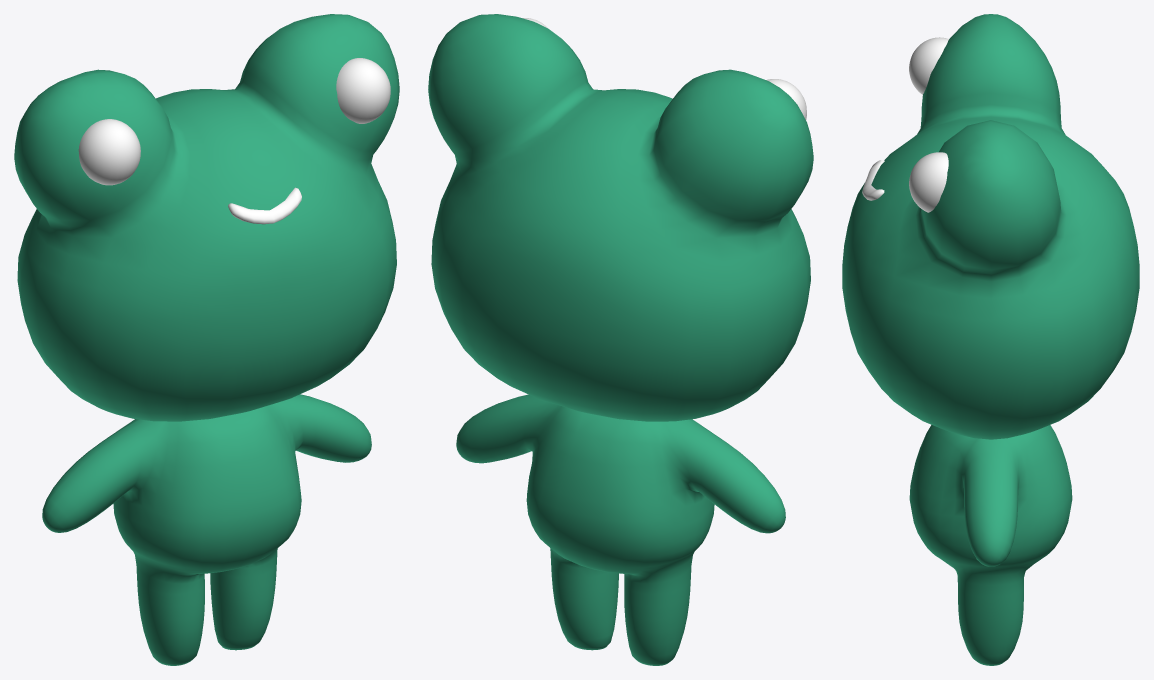
Rendered from ranarancia.glb.
3 views of the same model, side by side, from view 1: azimuth 30°, elevation 25°; view 2: azimuth 150°, elevation 25°; view 3: azimuth 270°, elevation 25° (orthographic). The views are drawn at different scales.
Parts seen in each view (by area): view 1: 1. Rana: UV sphere y cilindro; view 2: 1. Rana: UV sphere y cilindro; view 3: 1. Rana: UV sphere y cilindro.
Boxes of the visible parts, <box> form: 1. Rana: UV sphere y cilindro: <box>14,14,399,665</box>; 1. Rana: UV sphere y cilindro: <box>428,14,813,665</box>; 1. Rana: UV sphere y cilindro: <box>842,14,1139,665</box>.
Bounding box in the file's own units: 12.69 × 19.87 × 9.41.
